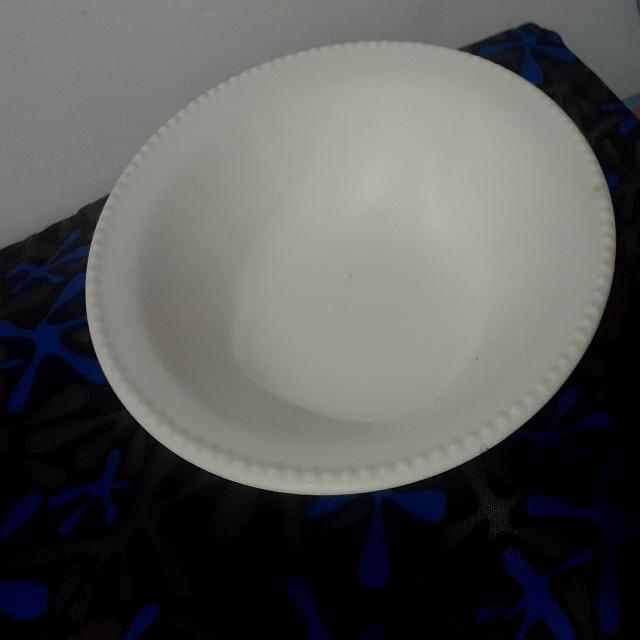non-organic waste: (102, 43, 624, 504)
